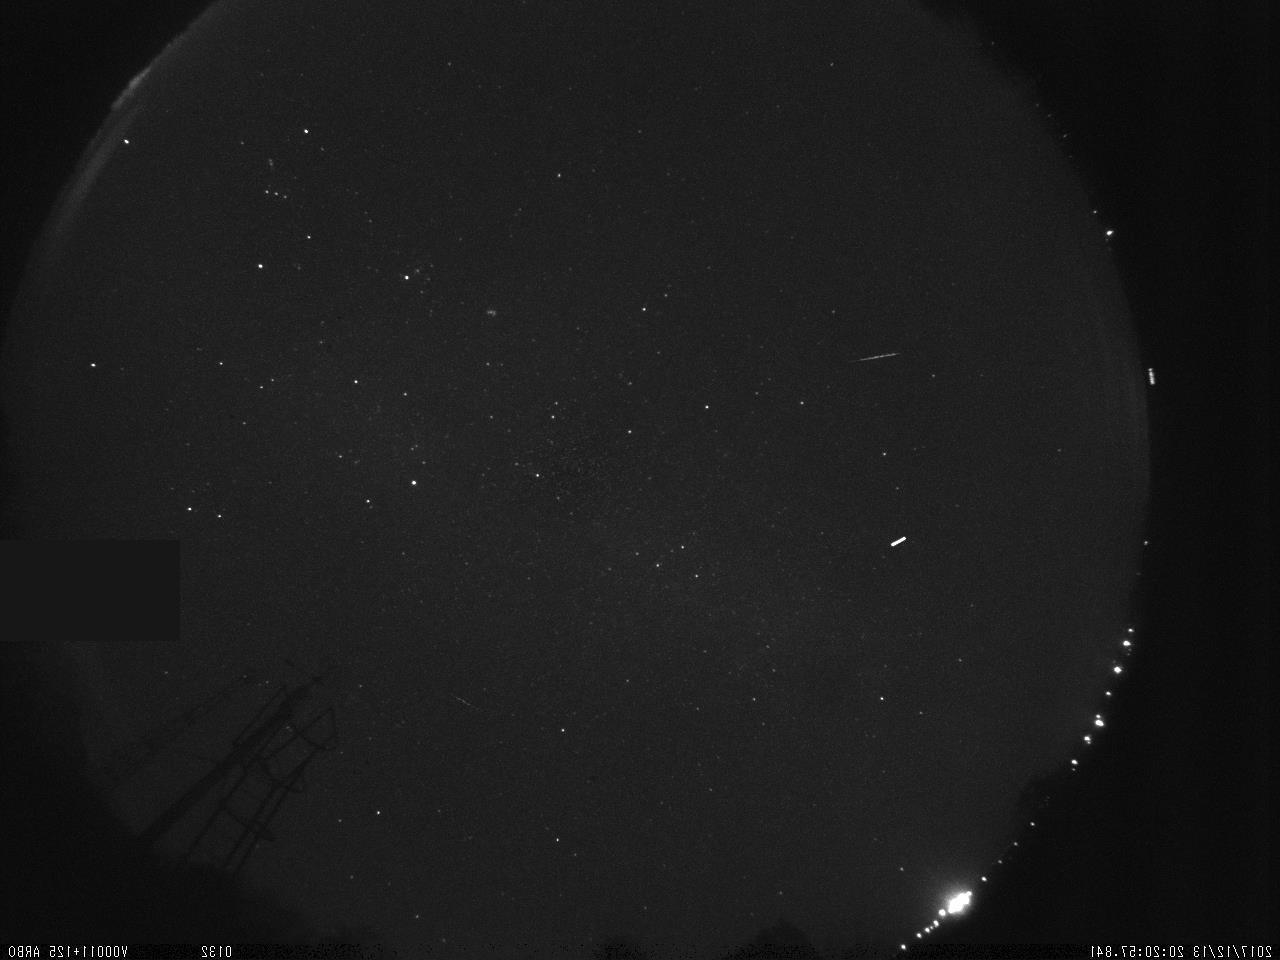meteor: (854, 340, 902, 370)
